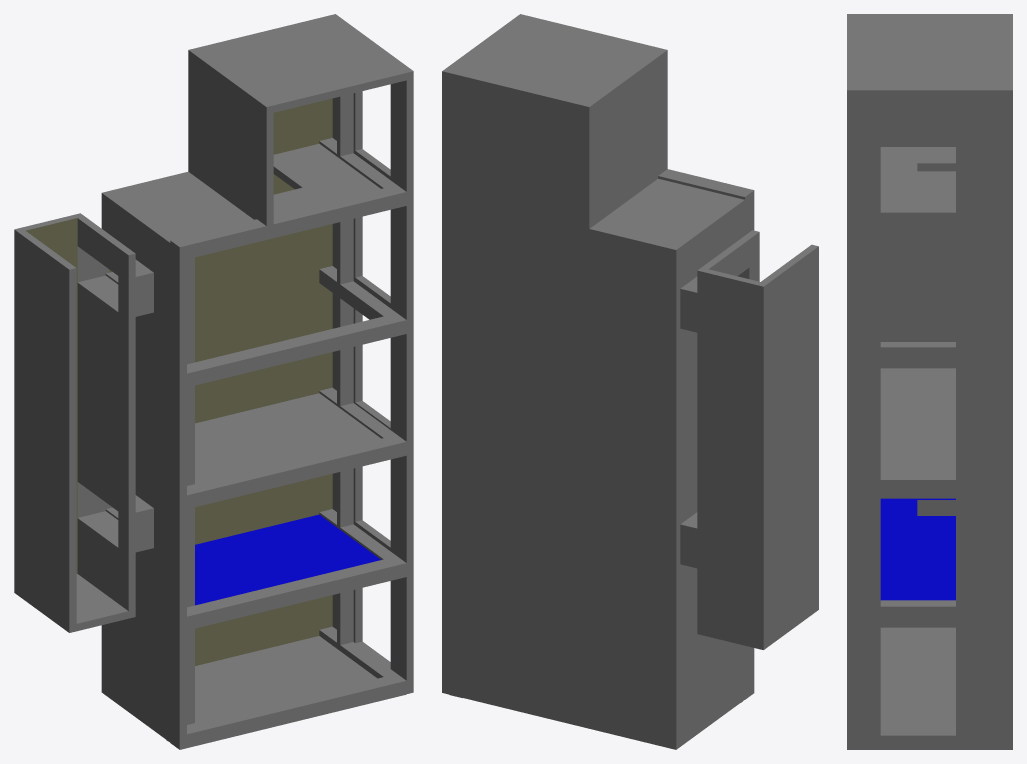
The picture shows the model from 3 angles, left to right: view 1: azimuth 30°, elevation 25°; view 2: azimuth 150°, elevation 25°; view 3: azimuth 270°, elevation 25°; orthographic projection. The views are drawn at different scales.
Parts seen in each view (by area): view 1: node; view 2: node; view 3: node.
Part boxes in pixels (x1,y1,x2,y2): node: [14, 14, 413, 749]; node: [442, 14, 818, 749]; node: [847, 14, 1012, 749].
Bounding box in the file's own units: 9.45 × 17.47 × 3.98.
